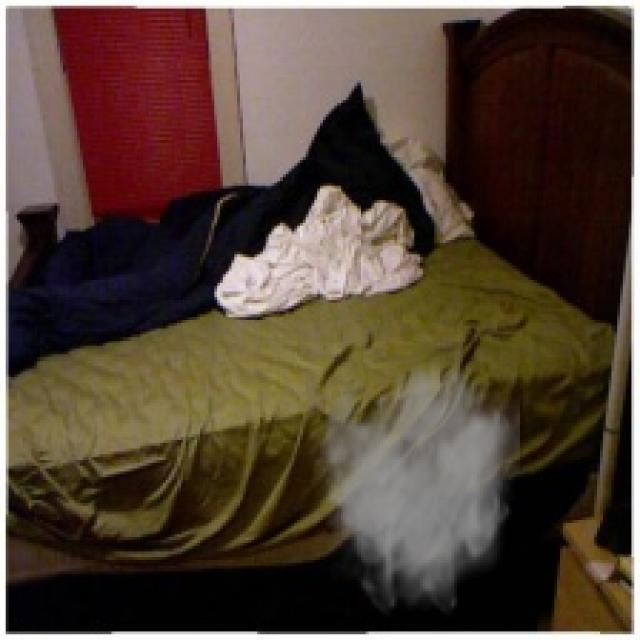Smoke: (306, 351, 520, 620)
